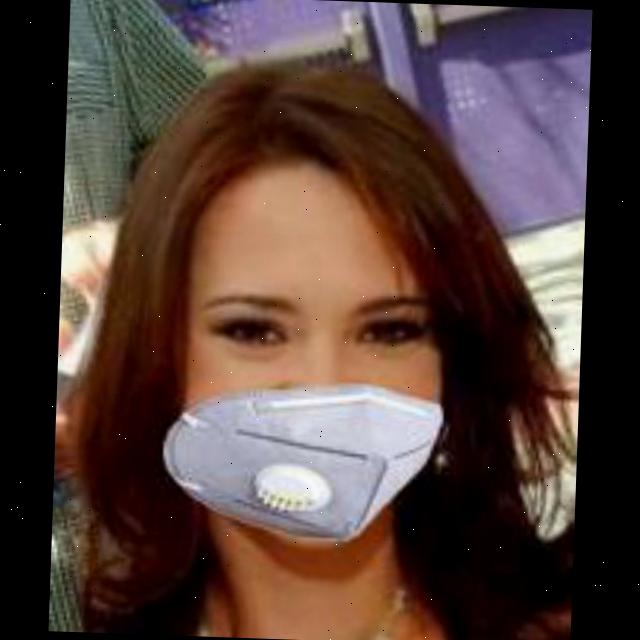suspicion: (129, 152, 497, 542)
